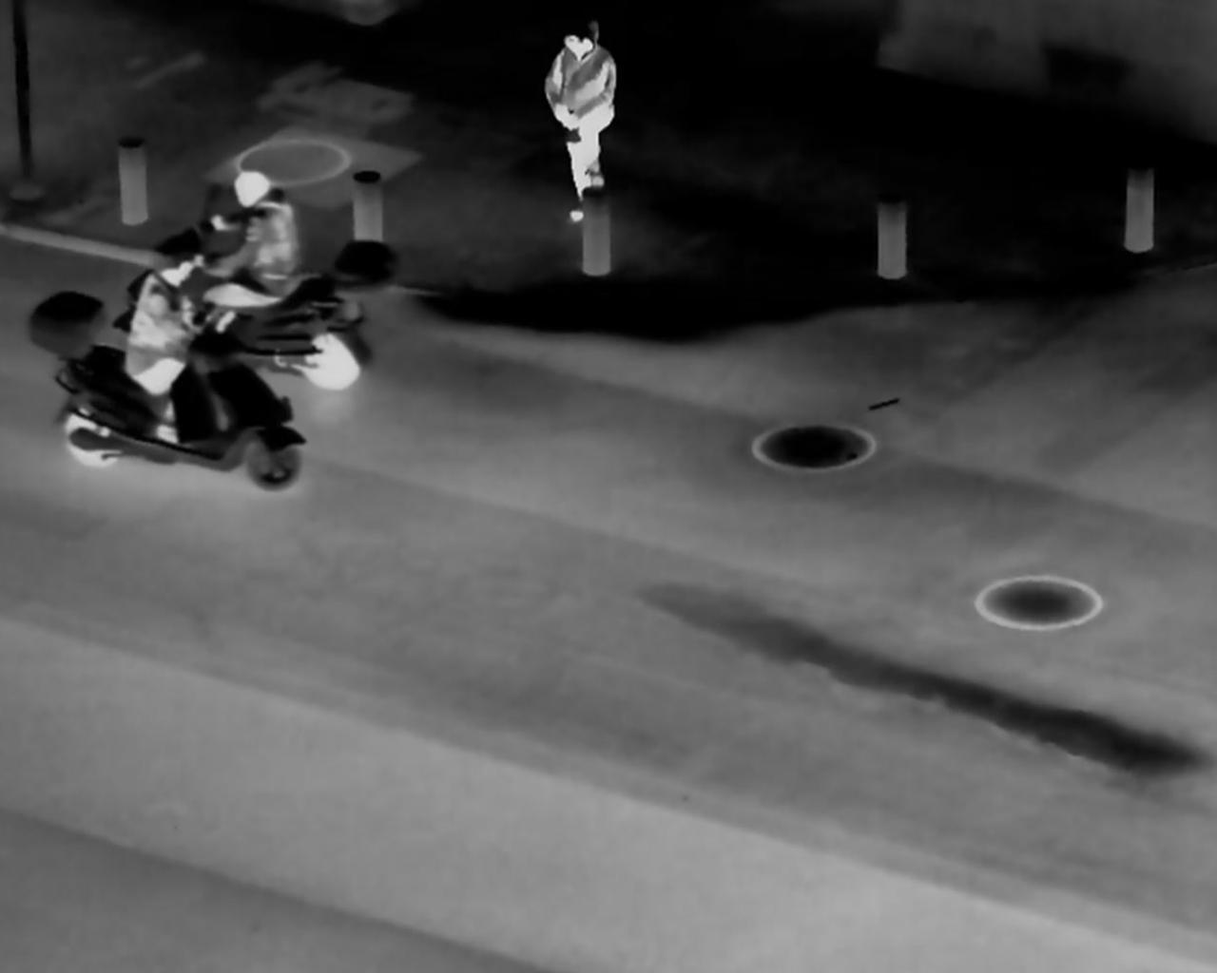person: (195, 170, 319, 336), (131, 236, 220, 454), (538, 10, 625, 217)
